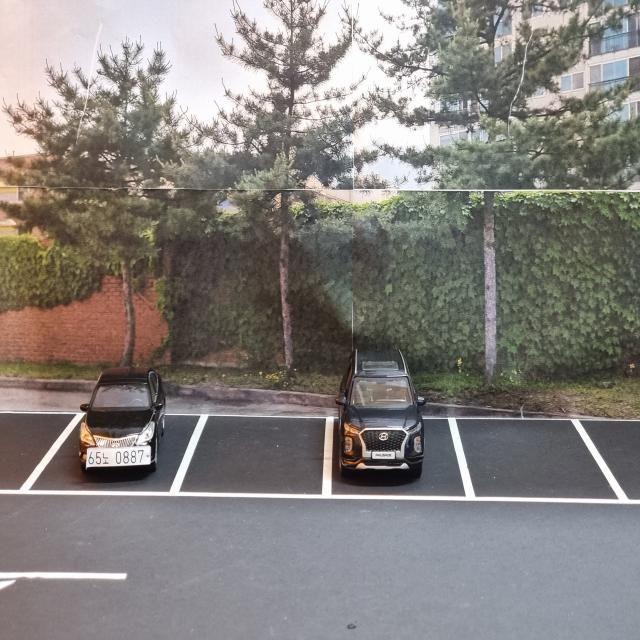empty: (449, 413, 638, 512), (168, 413, 344, 504), (1, 408, 80, 500)
occupied: (338, 345, 425, 480), (79, 366, 163, 472)
